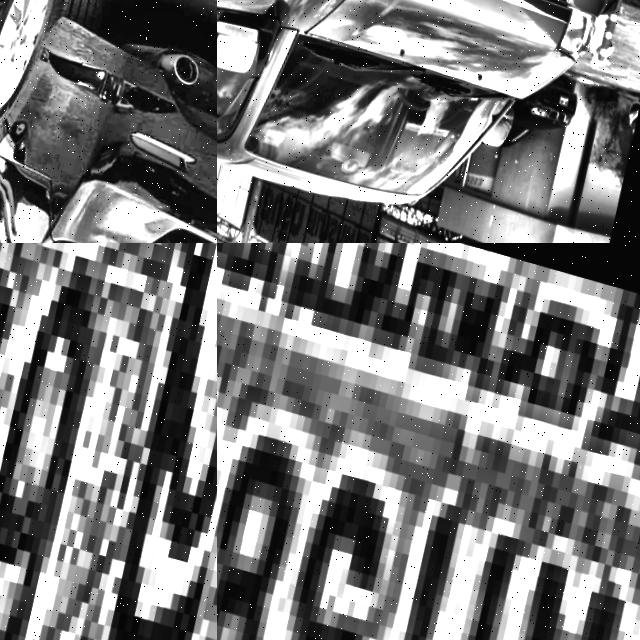license-plate: (217, 243, 640, 640), (0, 243, 217, 640), (552, 87, 568, 107)
